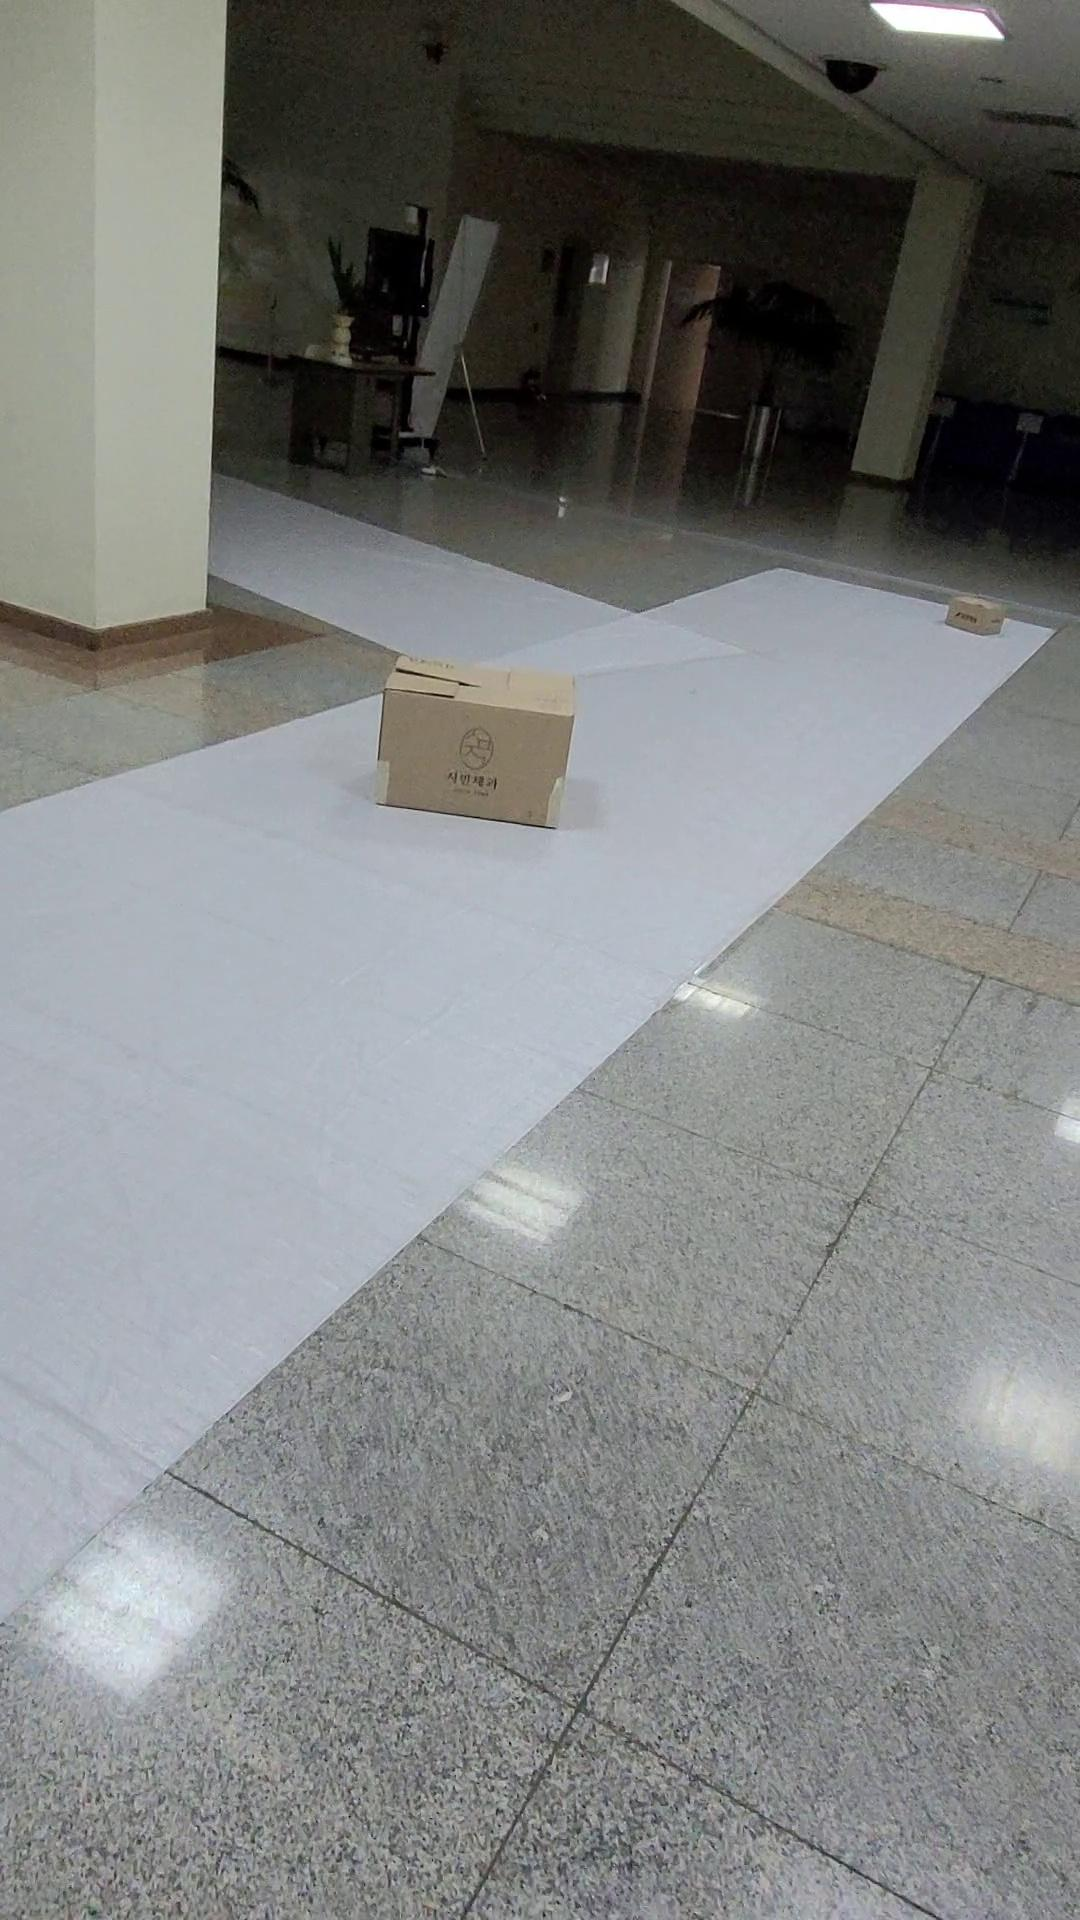Box: (348, 625, 600, 870), (943, 563, 1025, 678)
